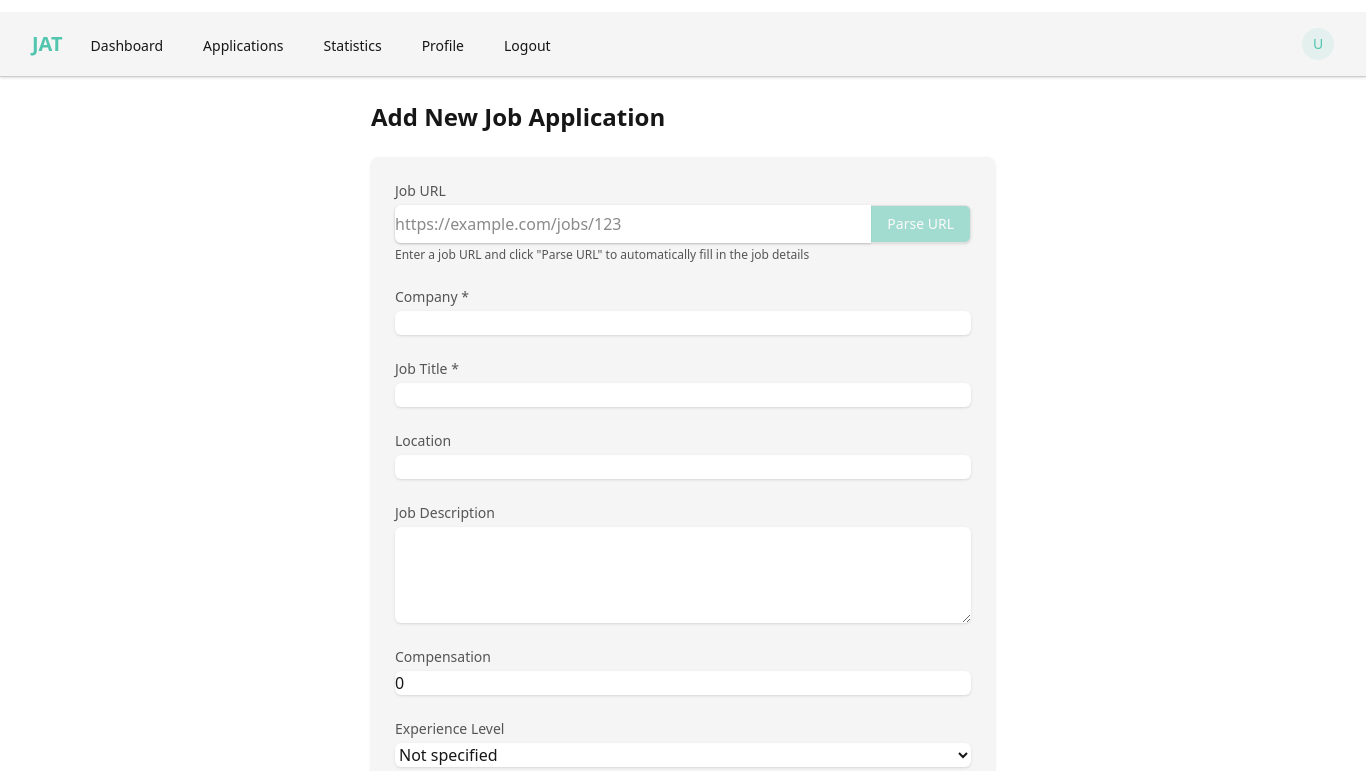
it: AddApplicationForm › enables Parse URL button when URL is entered
The image size is (1366, 771).
Expected: the button "Parse URL" is disabled, [871, 205, 971, 243]
Note: Enter URL
Type "https://job-boards.greenhouse.io/pulley/jobs/4750336008" into the field labelled "Job URL" at (633, 224), box [395, 205, 871, 243]
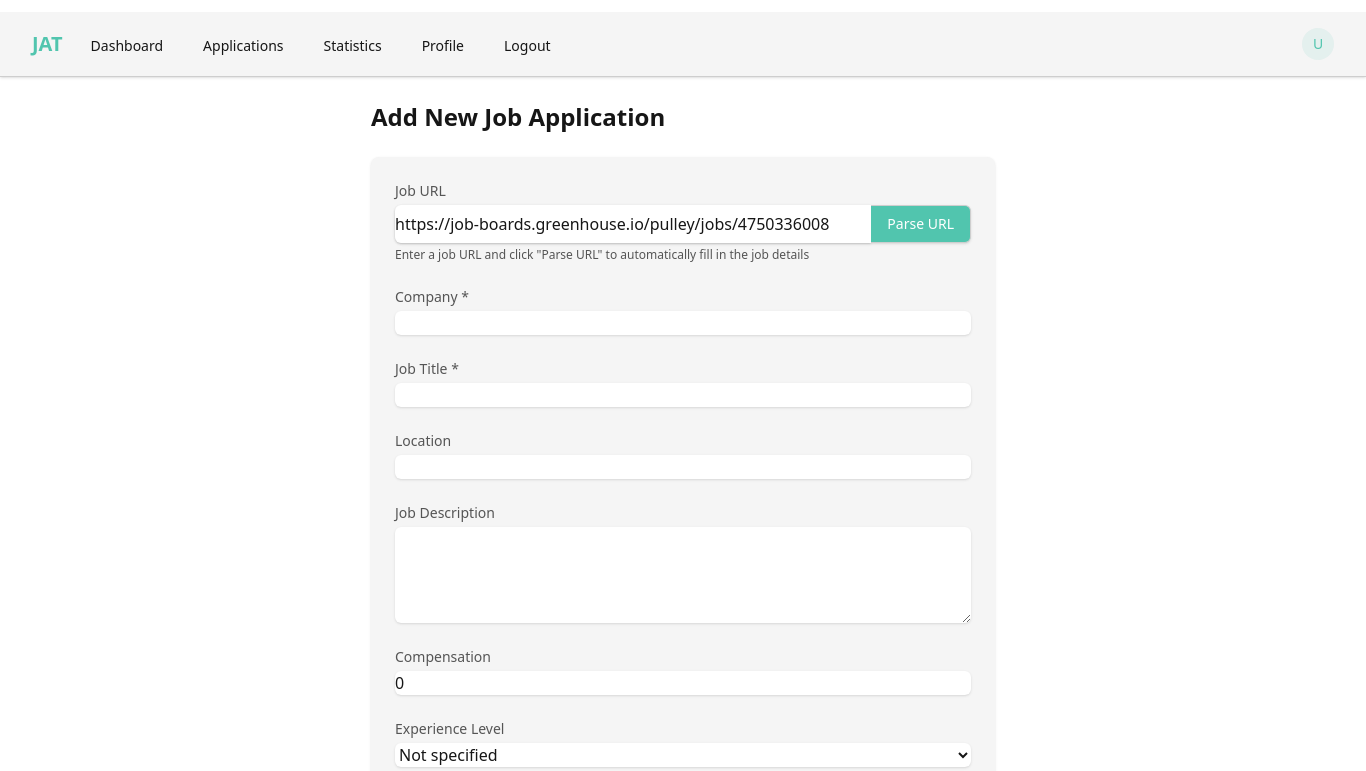
Expected: the button "Parse URL" is enabled, [871, 205, 971, 243]
